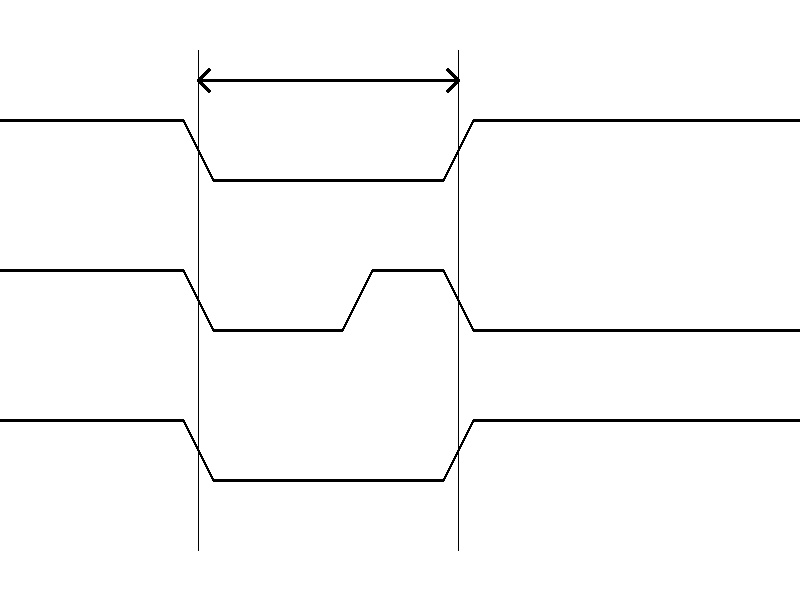double_arrow: (198, 65, 458, 95)
